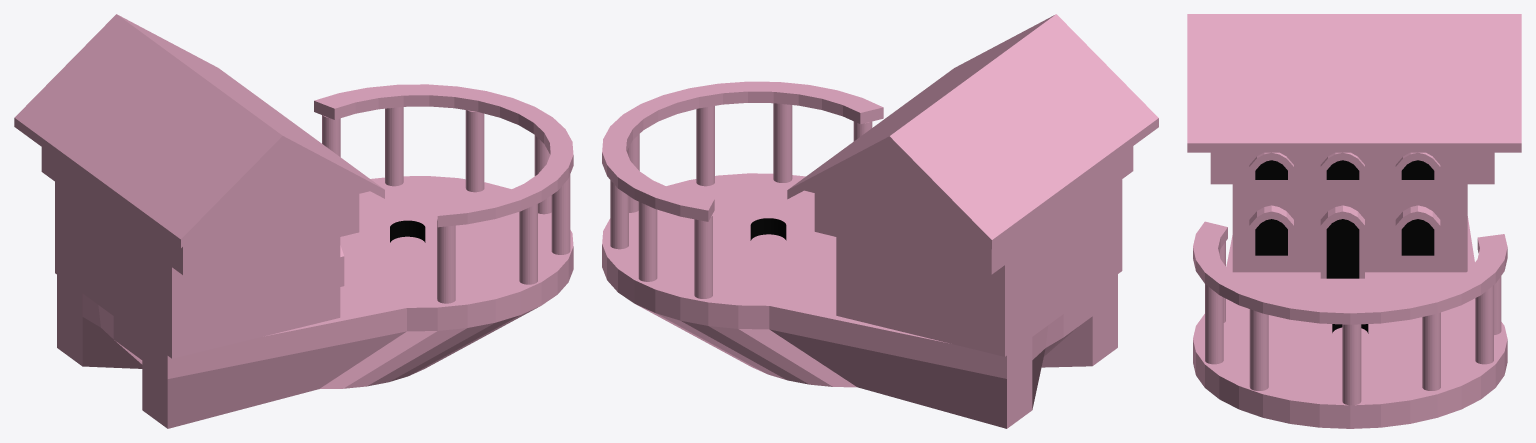
File: workShop02.glb
3 renders of one model, left to right at view 1: azimuth 30°, elevation 25°; view 2: azimuth 150°, elevation 25°; view 3: azimuth 270°, elevation 25°, orthographic.
Visible parts, largest first — view 1: WorkShopt02; view 2: WorkShopt02; view 3: WorkShopt02.
Boxes of the visible parts, <box> form: WorkShopt02: <box>14,14,573,428</box>; WorkShopt02: <box>602,14,1158,428</box>; WorkShopt02: <box>1187,14,1521,428</box>.
Bounding box in the file's own units: 3.34 × 2.05 × 2.13.
